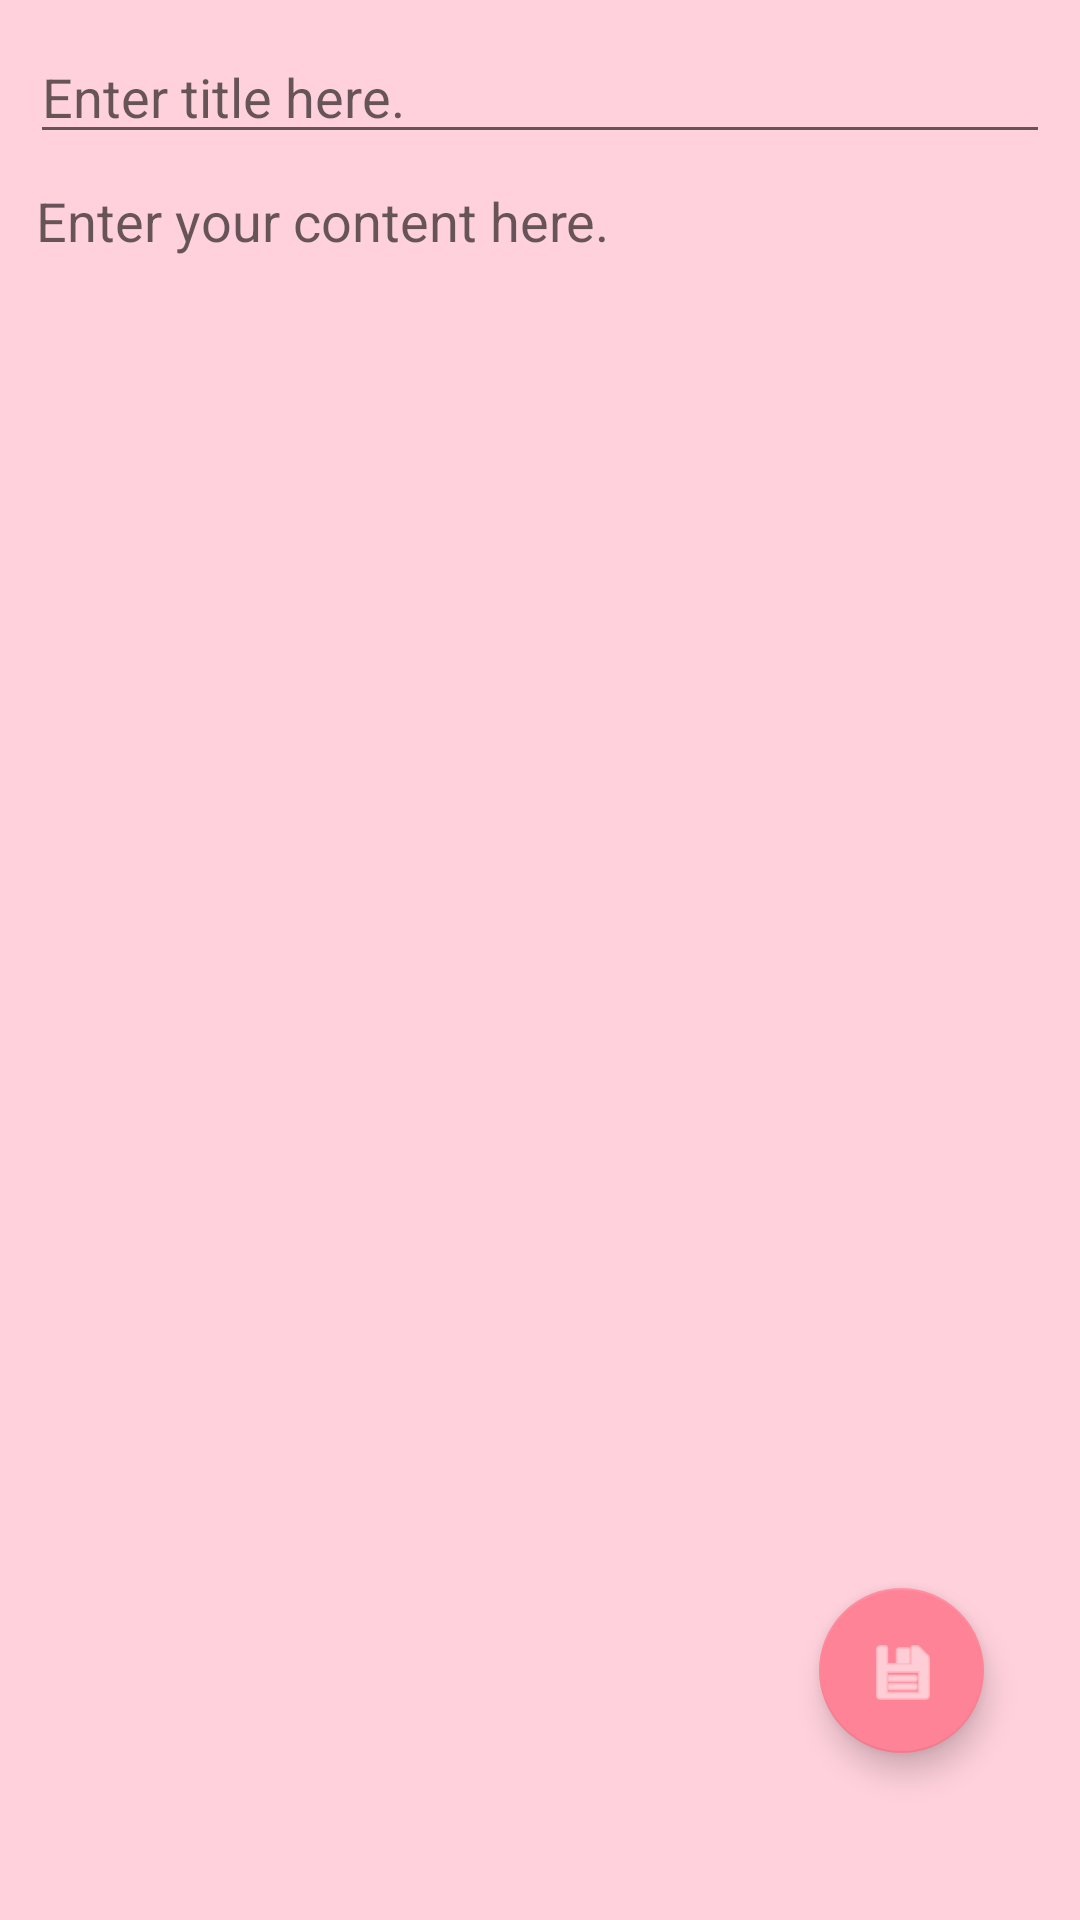

Named icons in this screenshot (1080 x 1920) and their centers, (x,y):
save: (901,1670)
